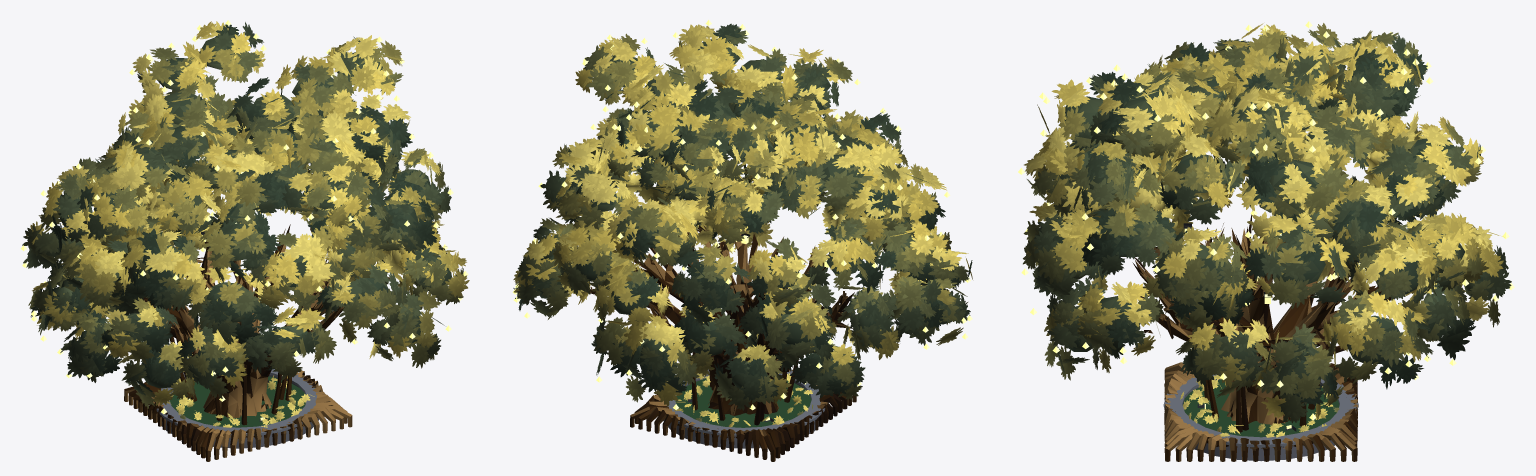
Rendered from tree_banyan.glb.
3 renders of one model, left to right at view 1: azimuth 30°, elevation 25°; view 2: azimuth 150°, elevation 25°; view 3: azimuth 270°, elevation 25°, orthographic. The views are drawn at different scales.
Parts seen in each view (by area): view 1: canopy, body, lights; view 2: canopy, body, lights; view 3: canopy, body, lights.
Part boxes in pixels (x1,y1,x2,y2): canopy: [22, 21, 469, 408]; body: [124, 224, 389, 461]; lights: [20, 20, 468, 422]; canopy: [513, 23, 972, 410]; body: [586, 225, 856, 461]; lights: [512, 20, 972, 421]; canopy: [1023, 23, 1511, 423]; body: [1132, 210, 1395, 461]; lights: [1018, 21, 1514, 431].
Size of the model in its own units: 14.33 by 11.43 by 13.3.
5 materials, 1 textured.
